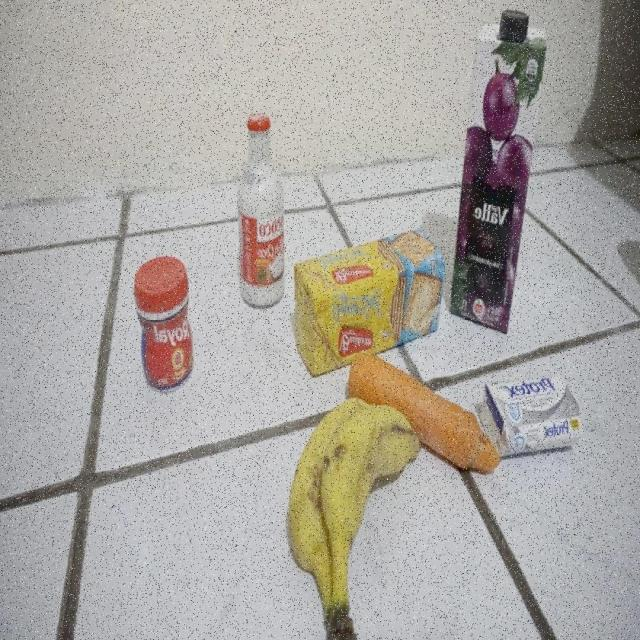Banana: (285, 396, 420, 640)
Carrot: (346, 352, 500, 476)
CoconutMilk: (237, 110, 285, 308)
Cracker: (293, 227, 446, 380)
Soap: (479, 374, 584, 460)
Yeast: (133, 255, 194, 395)
